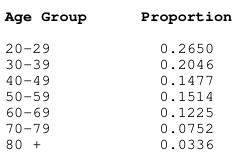table: (3, 4, 231, 153)
table column: (112, 4, 231, 153), (3, 4, 112, 153)
table column header: (3, 4, 231, 31)
table row: (3, 4, 231, 31), (3, 31, 231, 55), (3, 135, 231, 153), (3, 55, 231, 71), (3, 71, 231, 87), (3, 87, 231, 103), (3, 103, 231, 119), (3, 119, 231, 135)
